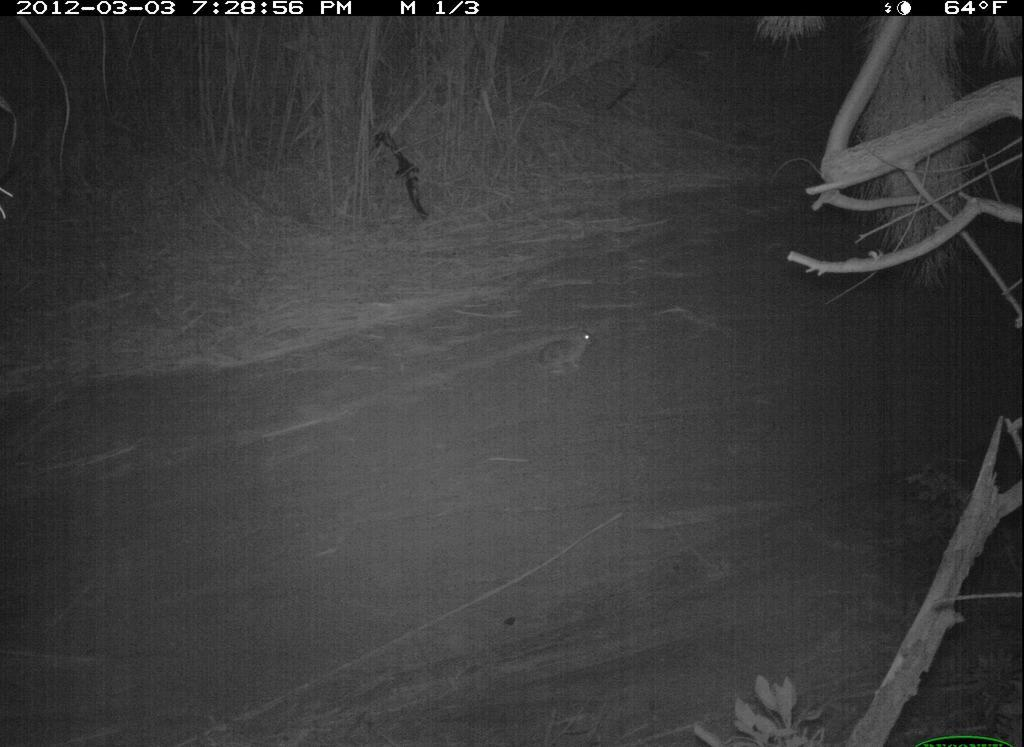rabbit: (534, 321, 607, 387)
